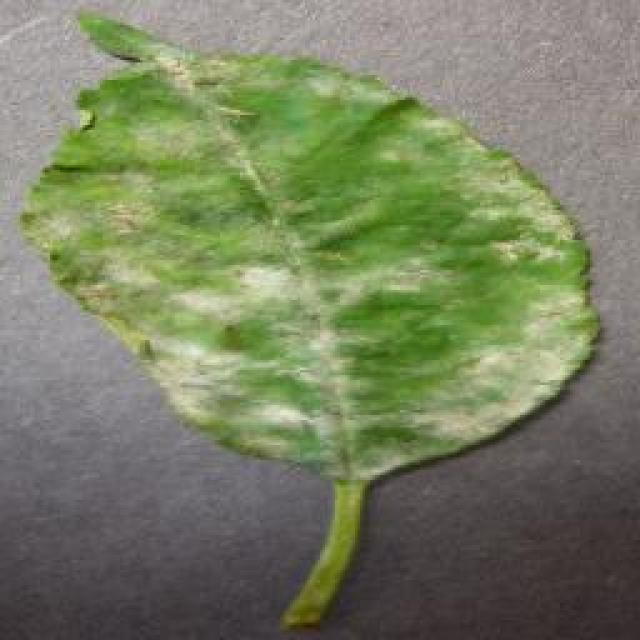Cherry___Powdery_mildew: (5, 2, 610, 640)
